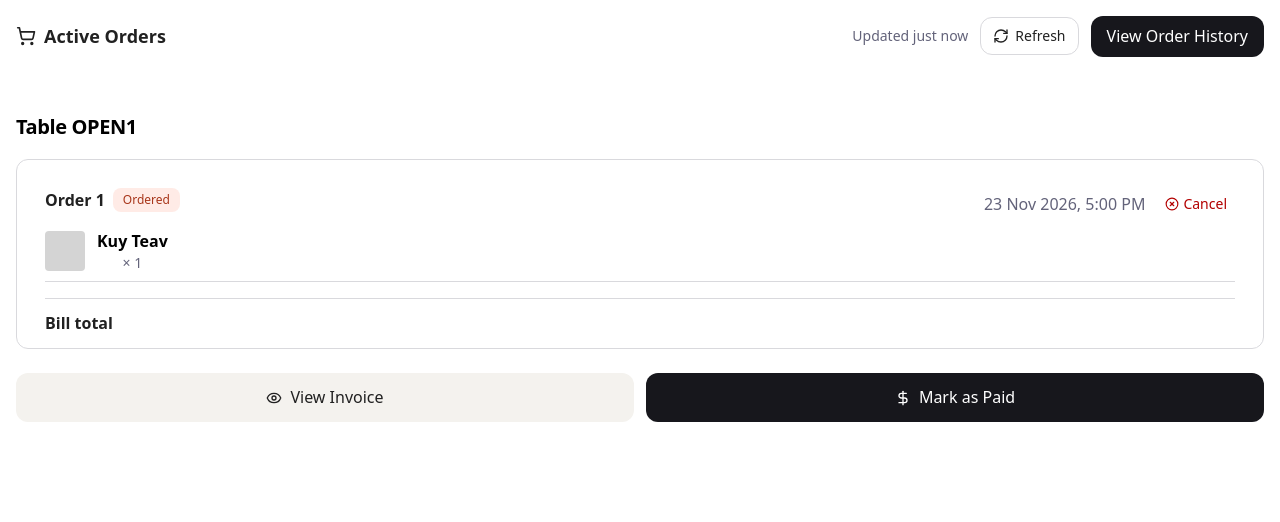
it: cashier bill history › shows paid bills a page at a time (not the open ones)
The width and height of the screenshot is (1280, 522).
Expected: the heading "Table OPEN1" is shown, [16,113,137,141]
Click the button "View Order History" at point(1177, 36), box [1090,16,1264,57]
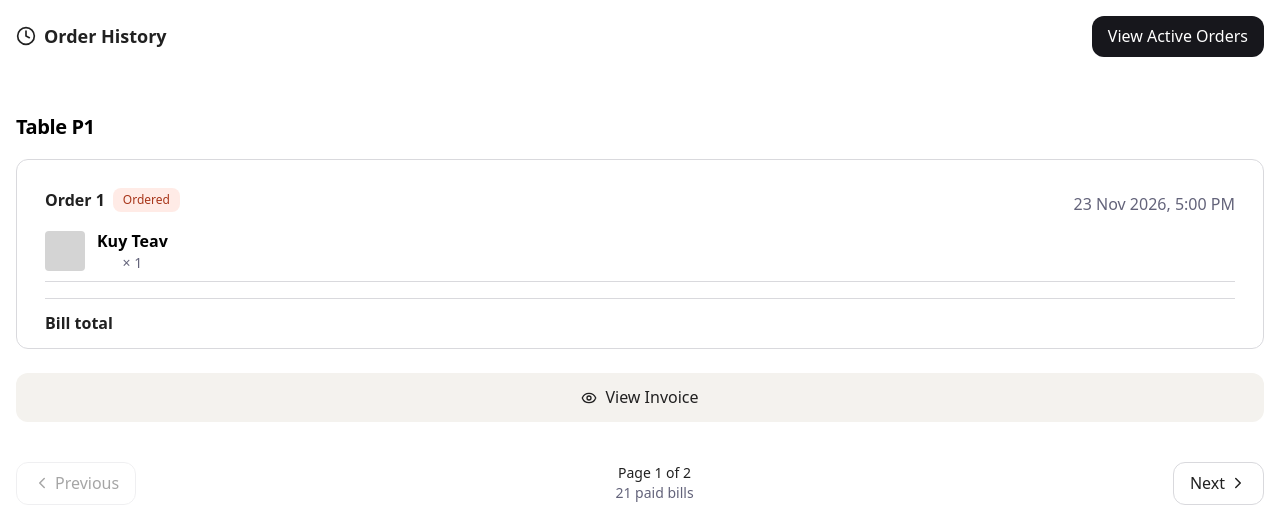
Now the heading "Table P1" is shown, box [16,113,95,141]
Now the heading "Table OPEN1" is gone
Now the text "Page 1 of 2 21 paid bills" is shown, box [616,463,694,503]
Click the button "Next" at point(1218, 483), box [1173,462,1264,505]
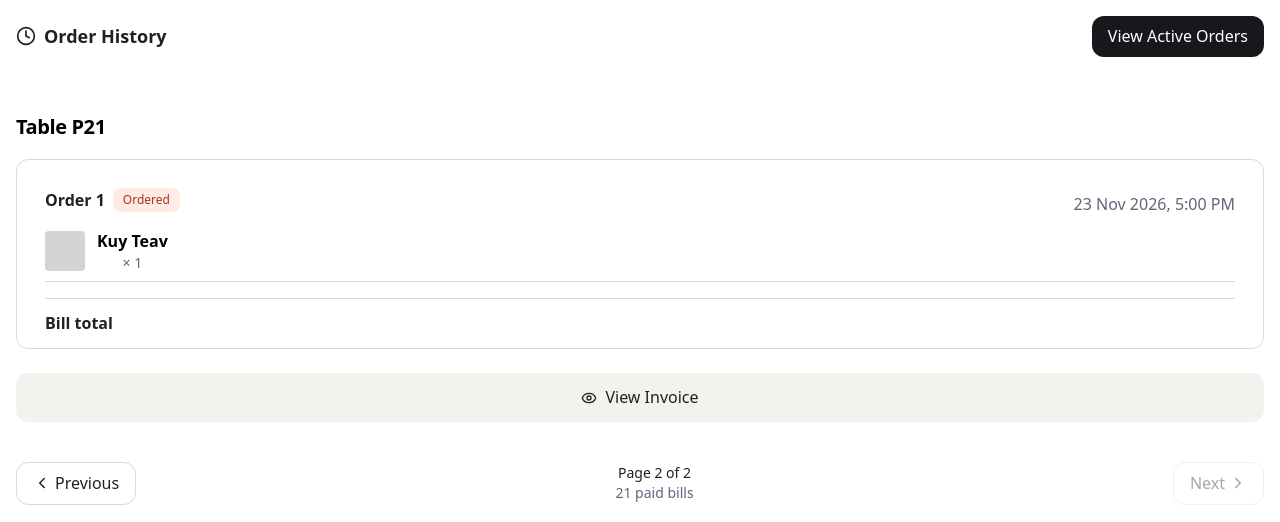
Now the heading "Table P21" is shown, box [16,113,106,141]
